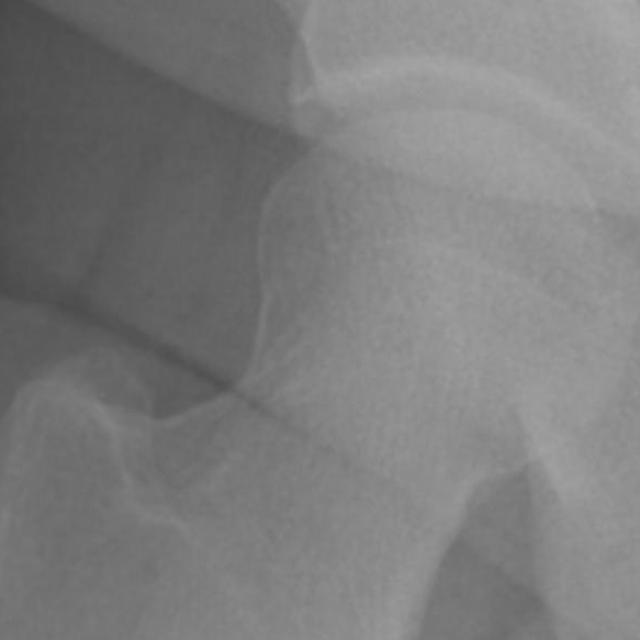Fitted_femural_head: (386, 109, 432, 386)
